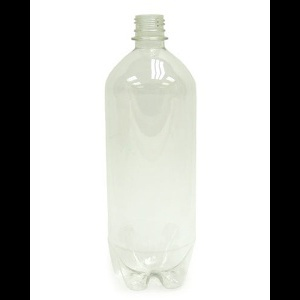emptybottle: (107, 15, 196, 291)
